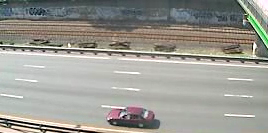car: (105, 104, 158, 130)
